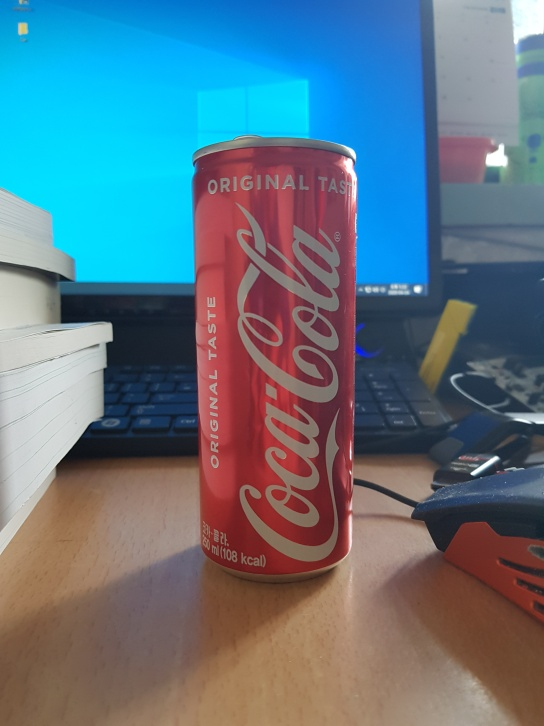Can: (188, 130, 361, 582)
